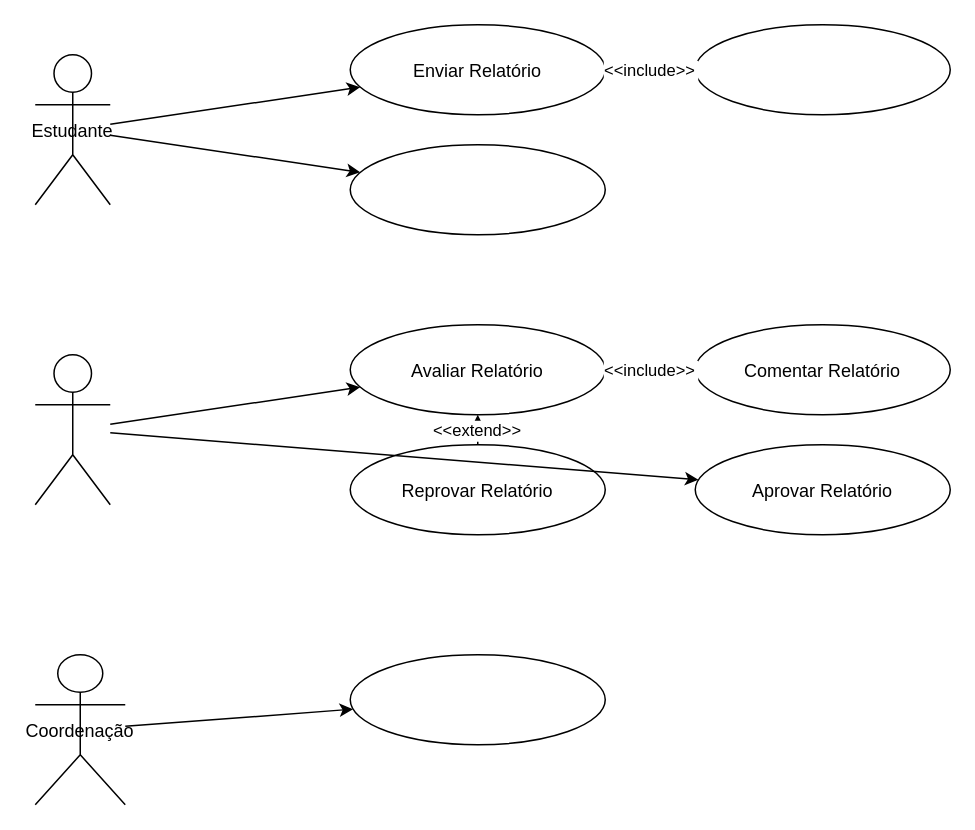
Image size: 975x830. Some labels were removed from this diagram. Each missing label, with the centre of its shape:
Anexar Arquivos: point 822,69
Corrigir Relatório: point 477,189
Gerenciar Projetos: point 477,699
Professor: point 72,429
